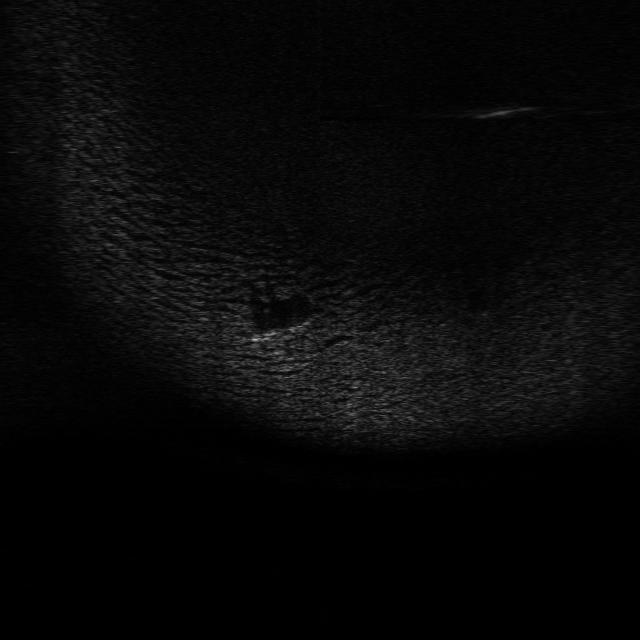plane: (249, 314, 313, 345)
